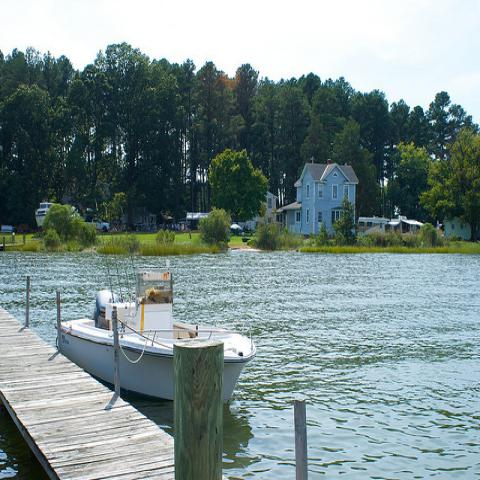truck: (88, 216, 110, 232)
